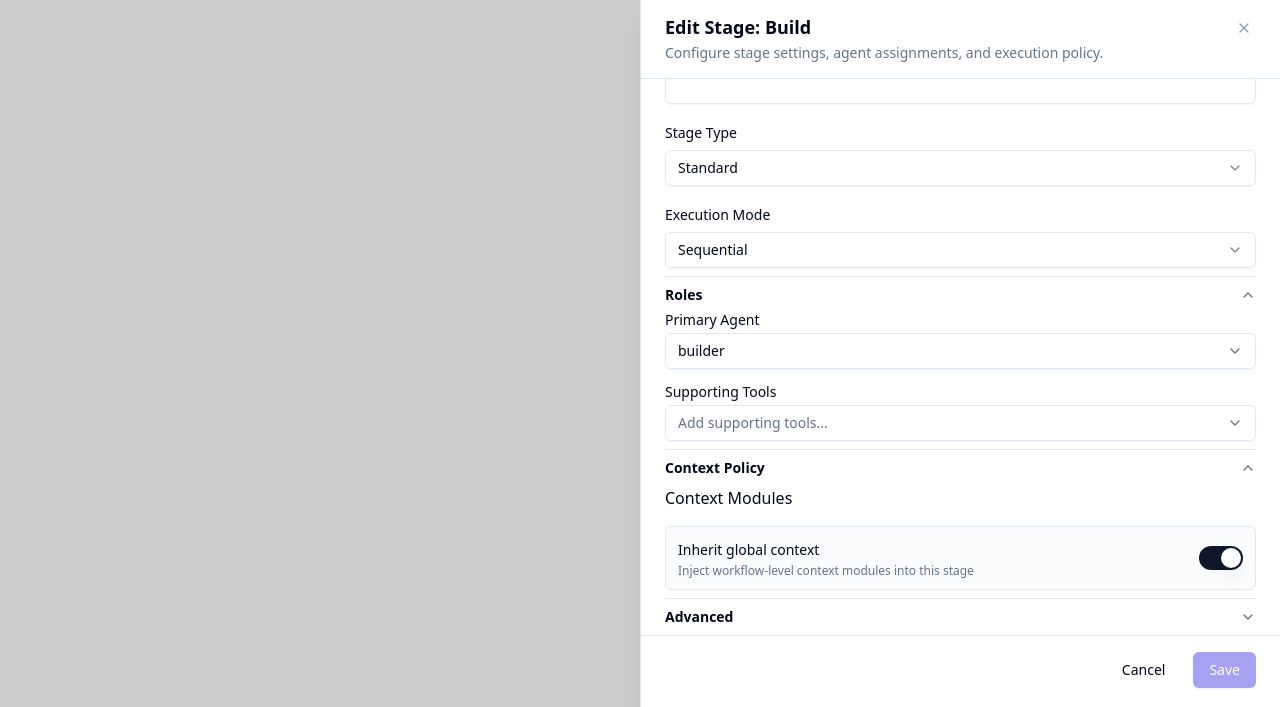
Scenario: StageEditor — sections › Advanced section toggle has aria-expanded="true" after clicking to expand
This screenshot has width=1280, height=707.
(page scrolled)
Click the button "Advanced". click: (699, 616)
box: left=665, top=599, right=1256, bottom=635
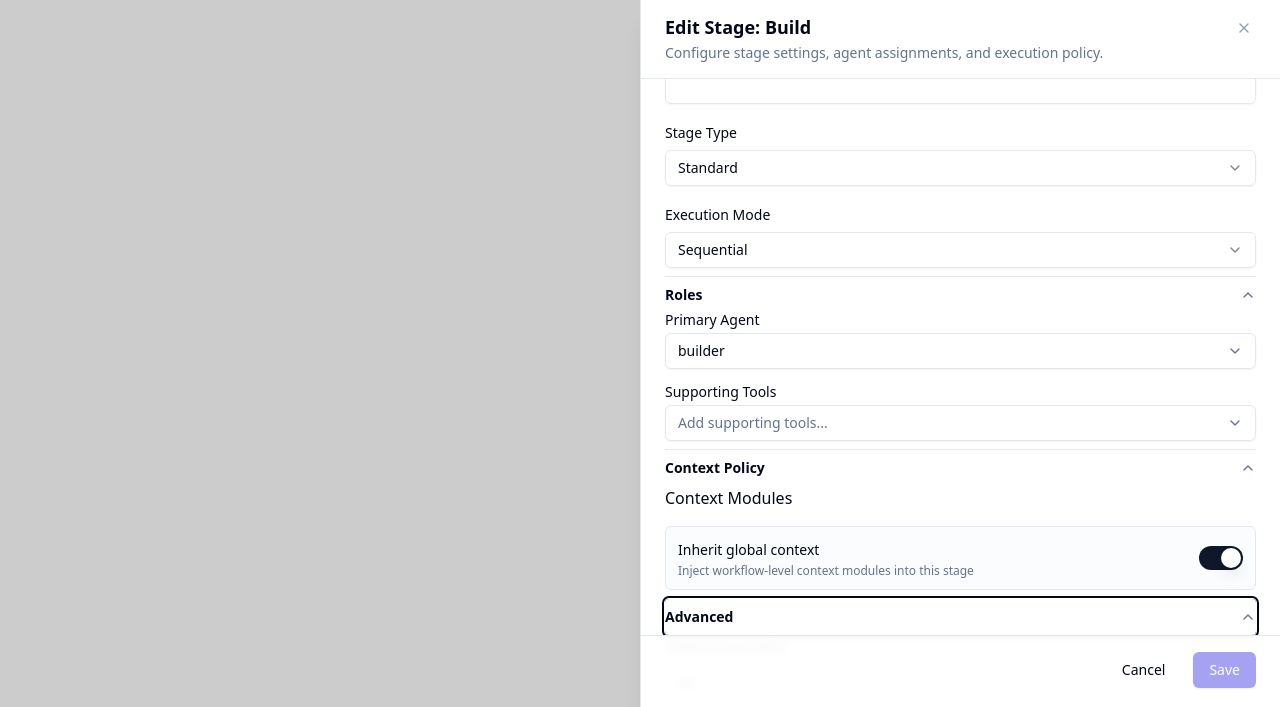
Expected: the button "Advanced" is expanded, left=665, top=599, right=1256, bottom=635
